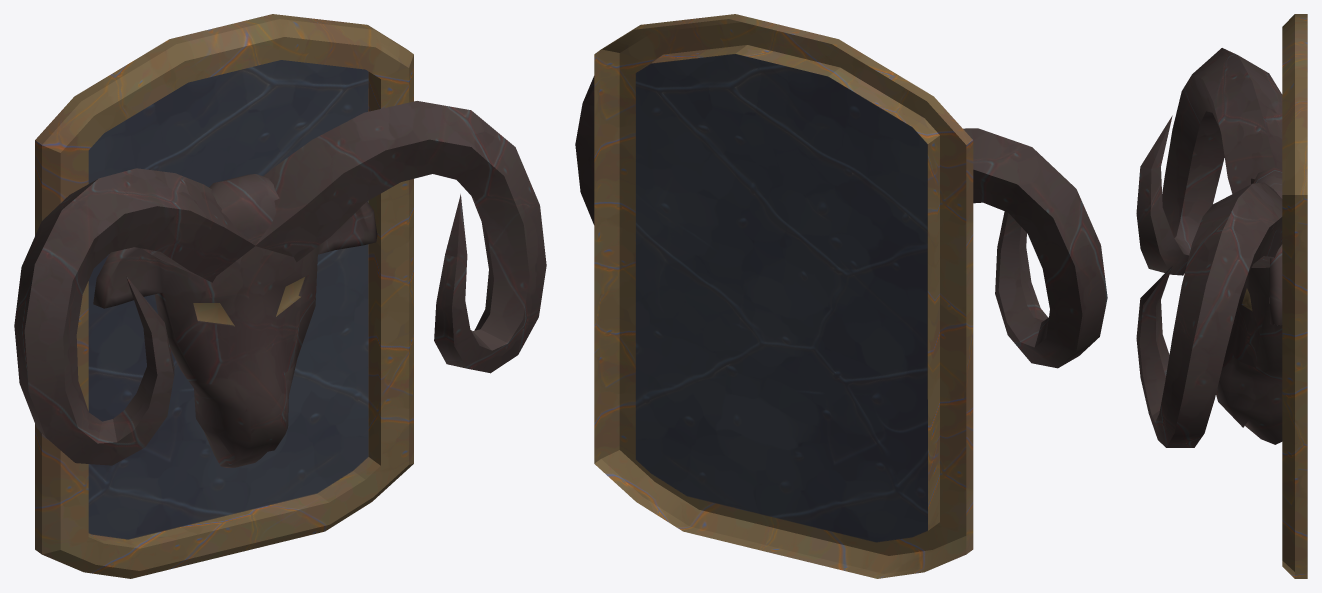
Rendered from Ram sigil with background.fbx.
3 renders of one model, left to right at view 1: azimuth 30°, elevation 25°; view 2: azimuth 150°, elevation 25°; view 3: azimuth 270°, elevation 25°, orthographic. The views are drawn at different scales.
Parts seen in each view (by area): view 1: Ram_sigil_with_background1; view 2: Ram_sigil_with_background1; view 3: Ram_sigil_with_background1.
Part boxes in pixels (box(x1,y1,x2,y2)): Ram_sigil_with_background1: box(14, 14, 546, 578); Ram_sigil_with_background1: box(575, 14, 1107, 578); Ram_sigil_with_background1: box(1136, 14, 1307, 578).
Size of the model in its own units: 0.8885 by 0.8589 by 0.276.
